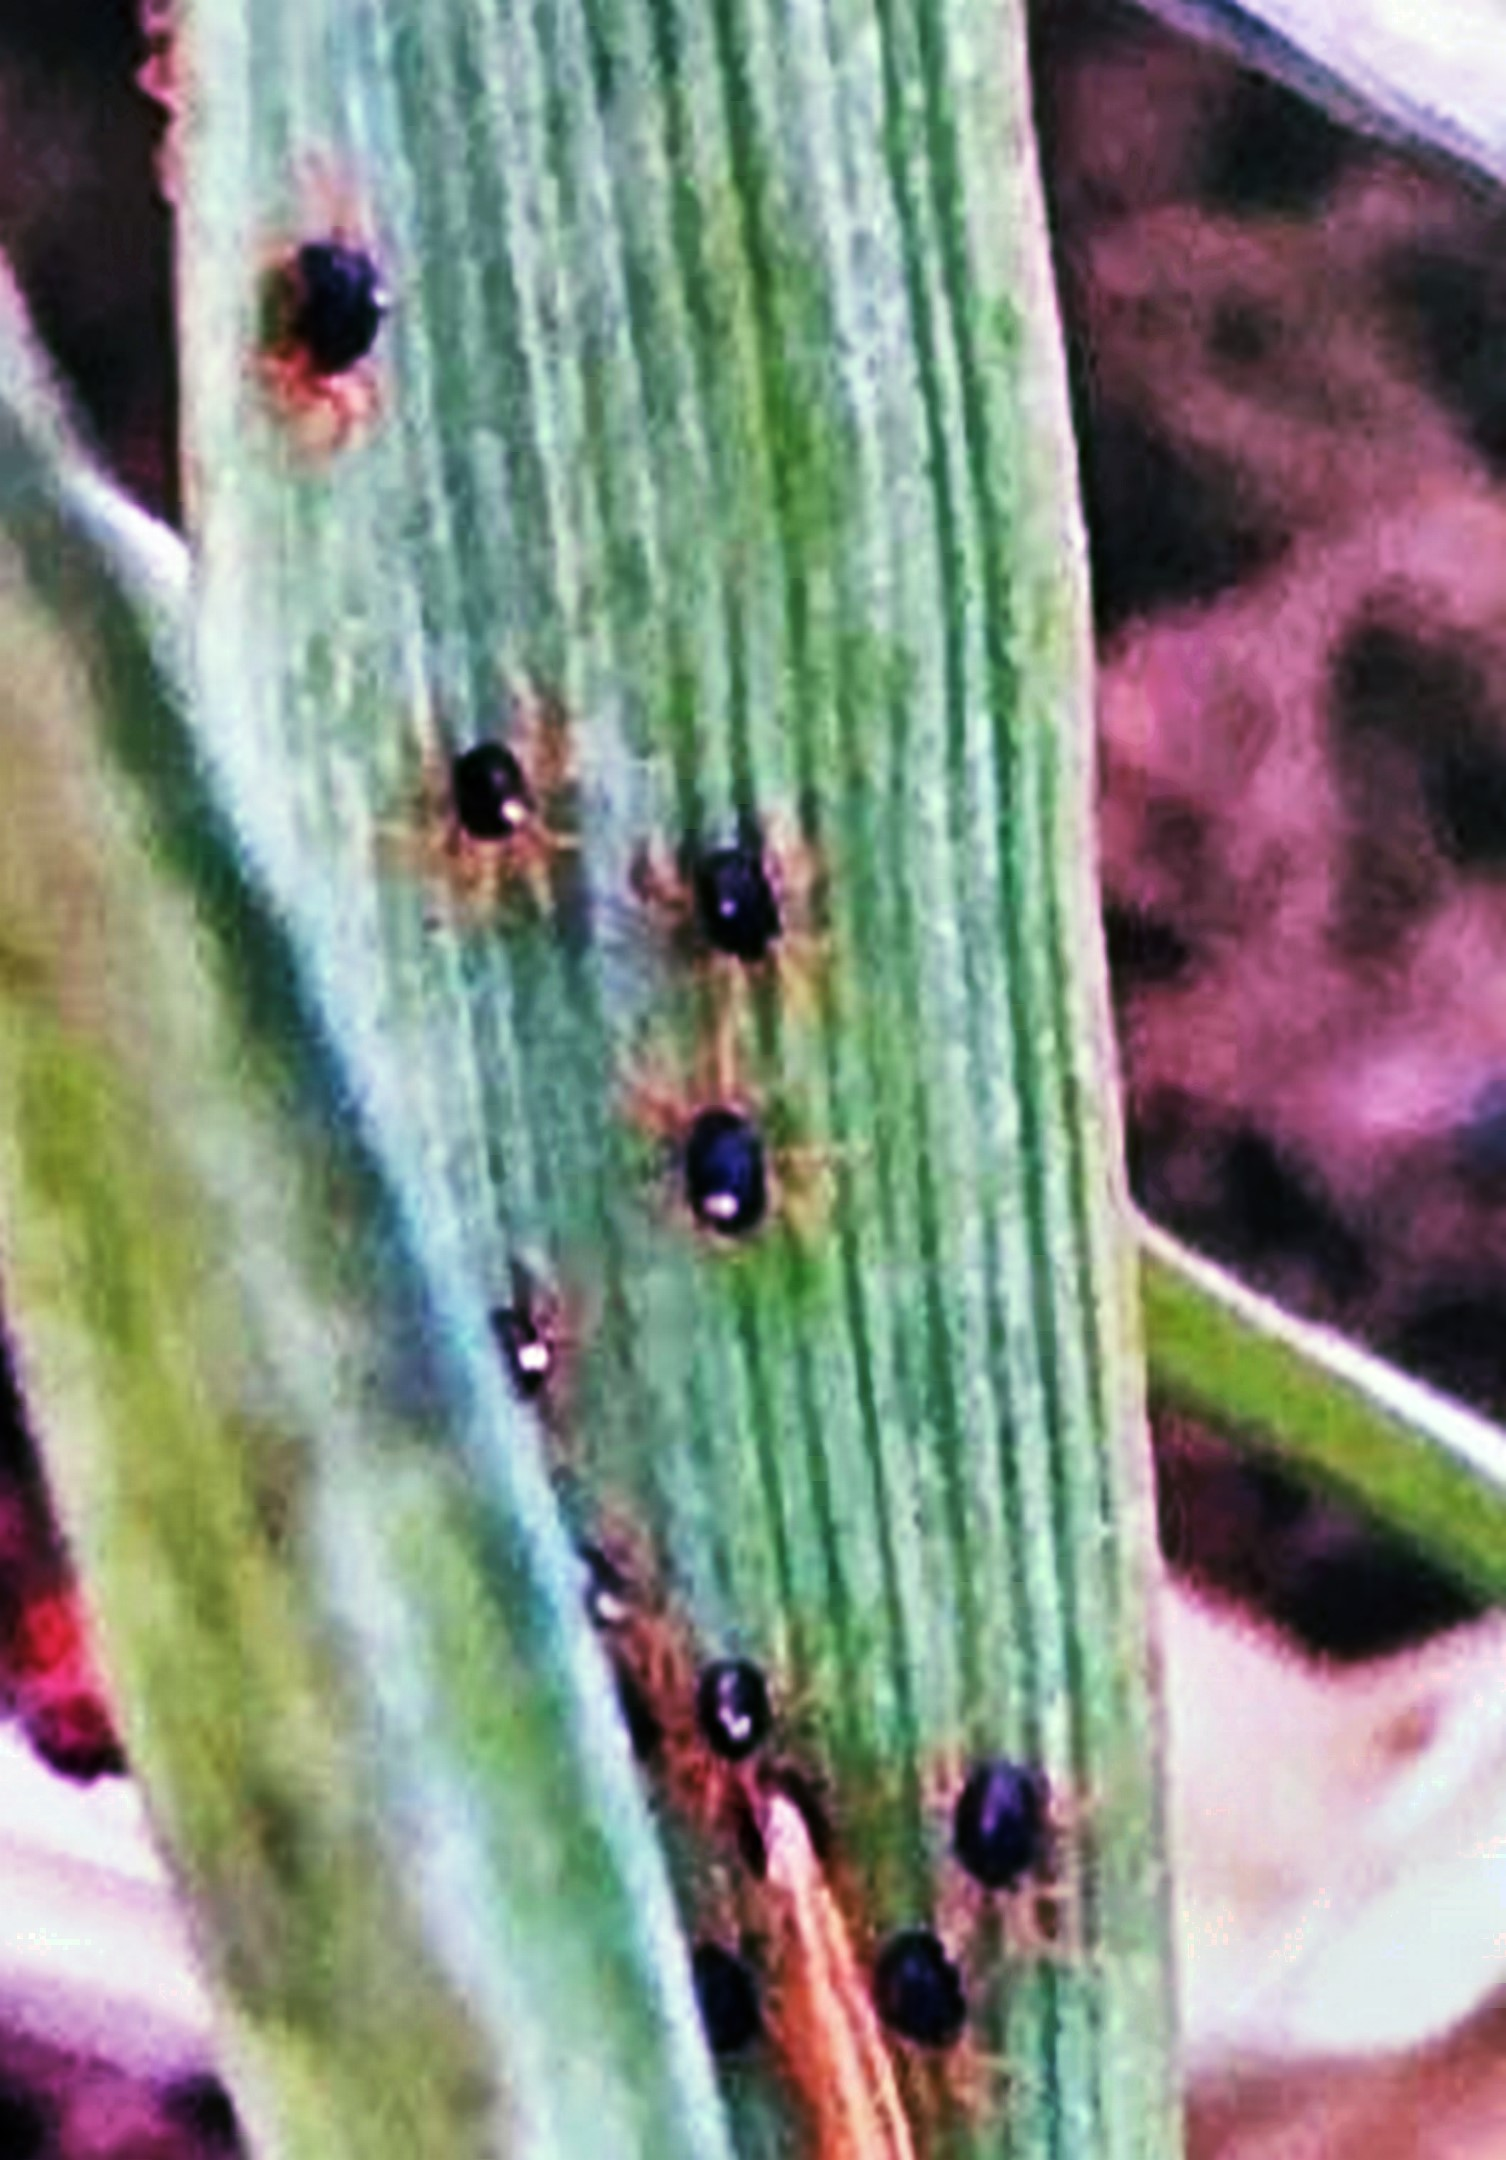Wheat Red Spider: (372, 694, 856, 1280)
